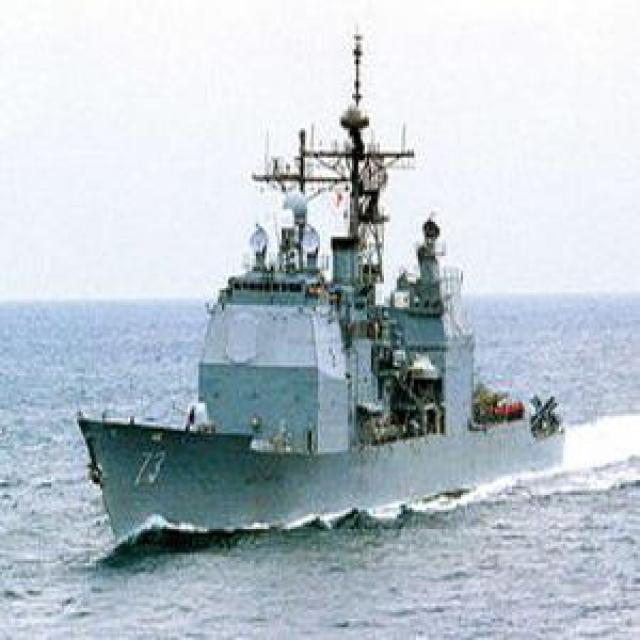navalvessels: (72, 73, 638, 539)
